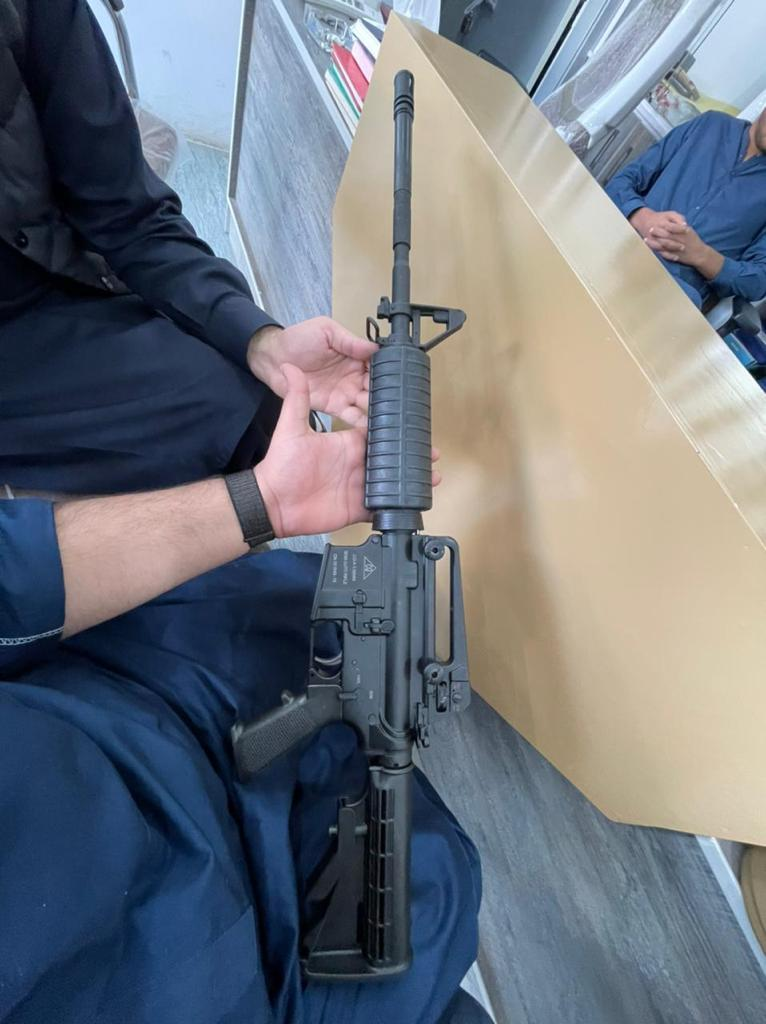weapon: (233, 68, 468, 986)
